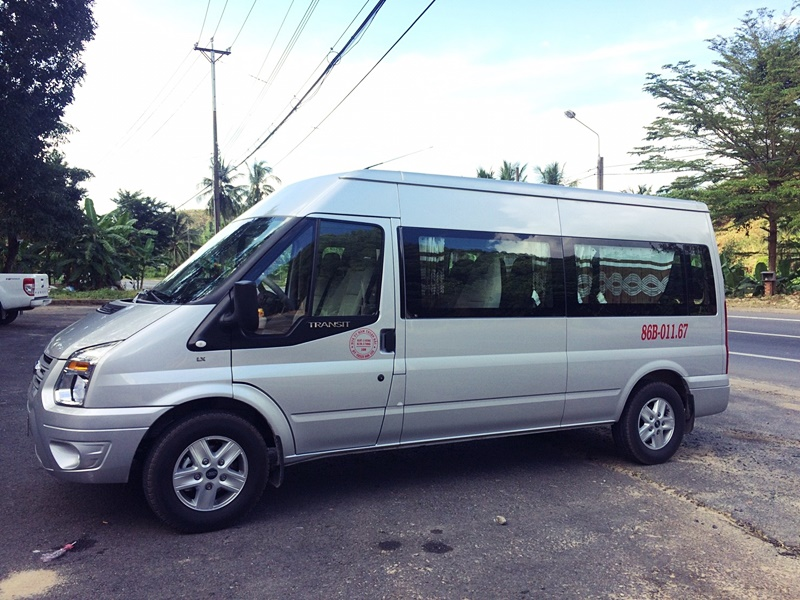van: (24, 166, 735, 536)
